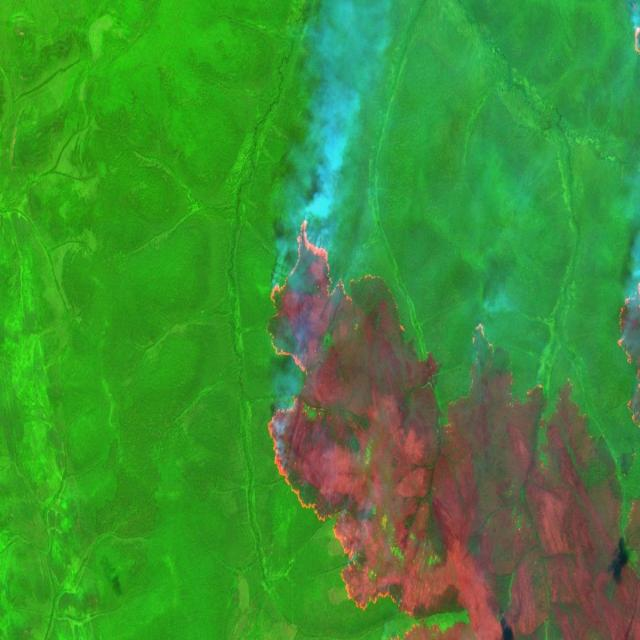fire: (267, 218, 640, 640), (628, 22, 640, 67)
